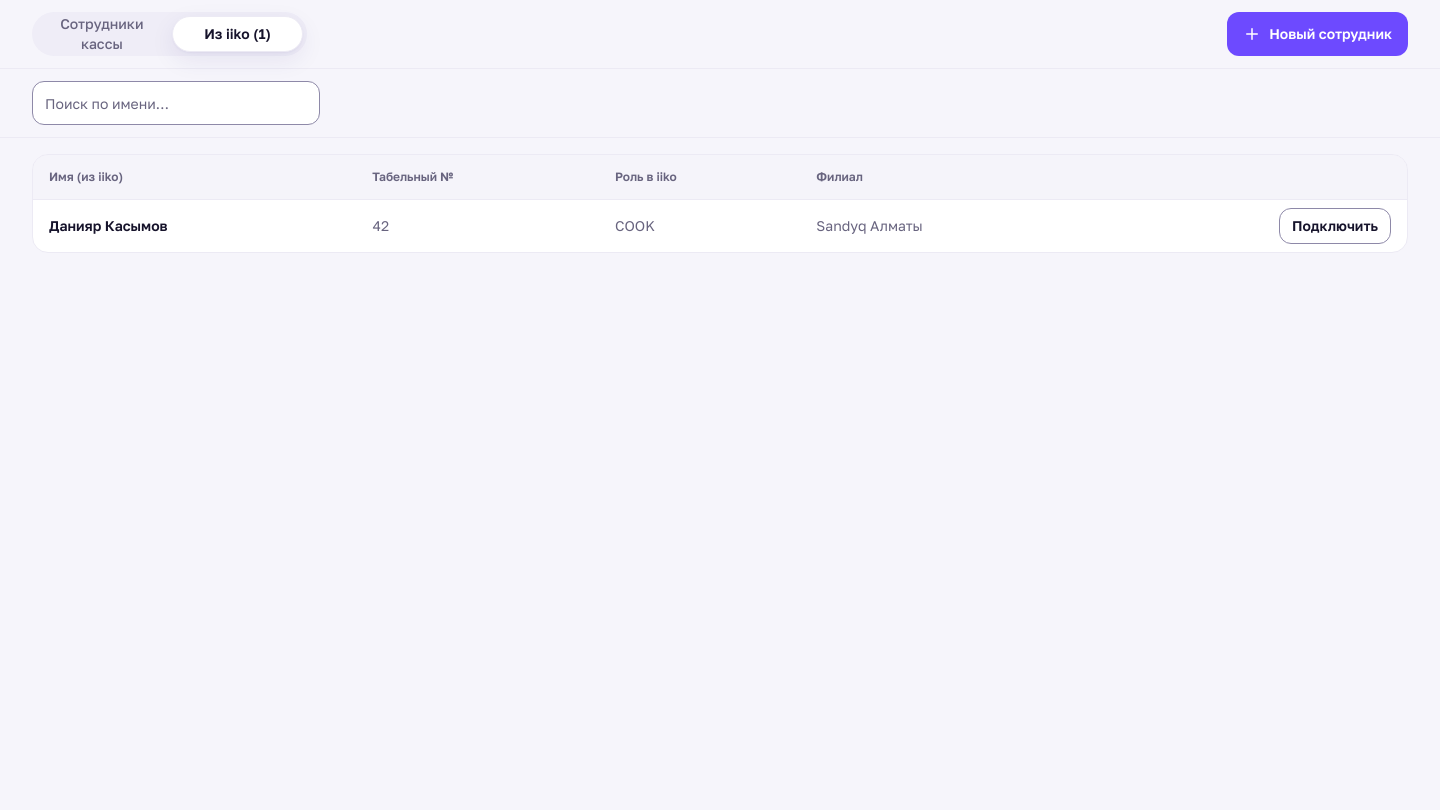
«Из iiko» (W1-HR-01 keeps the provisioning flow) › provisions POS access with the suggested code and PIN; the fields are not autofilled
Click the button "Подключить": x=1335, y=226 [1279,208,1391,244]
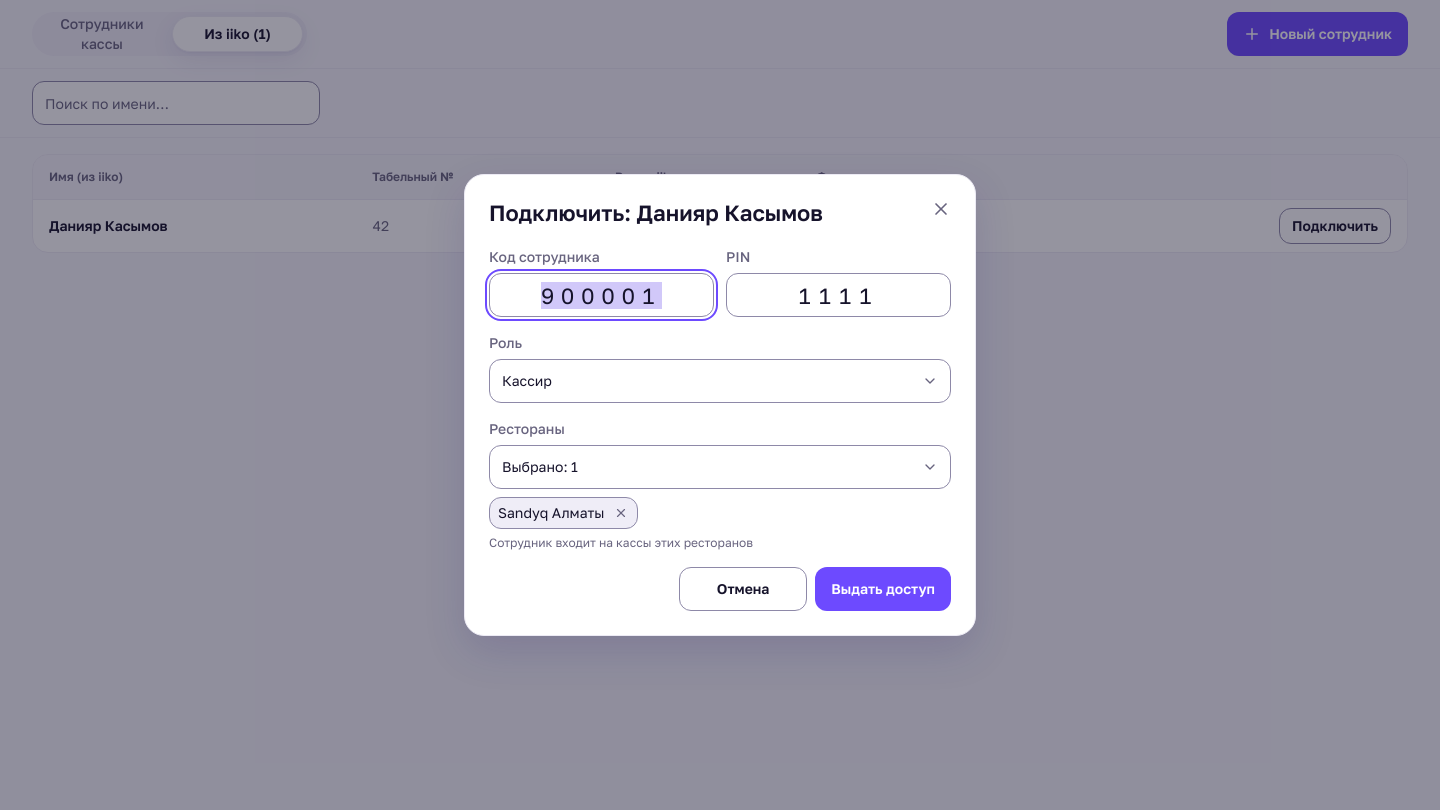
Click the button "Выдать доступ": x=883, y=589 [815,567,951,611]
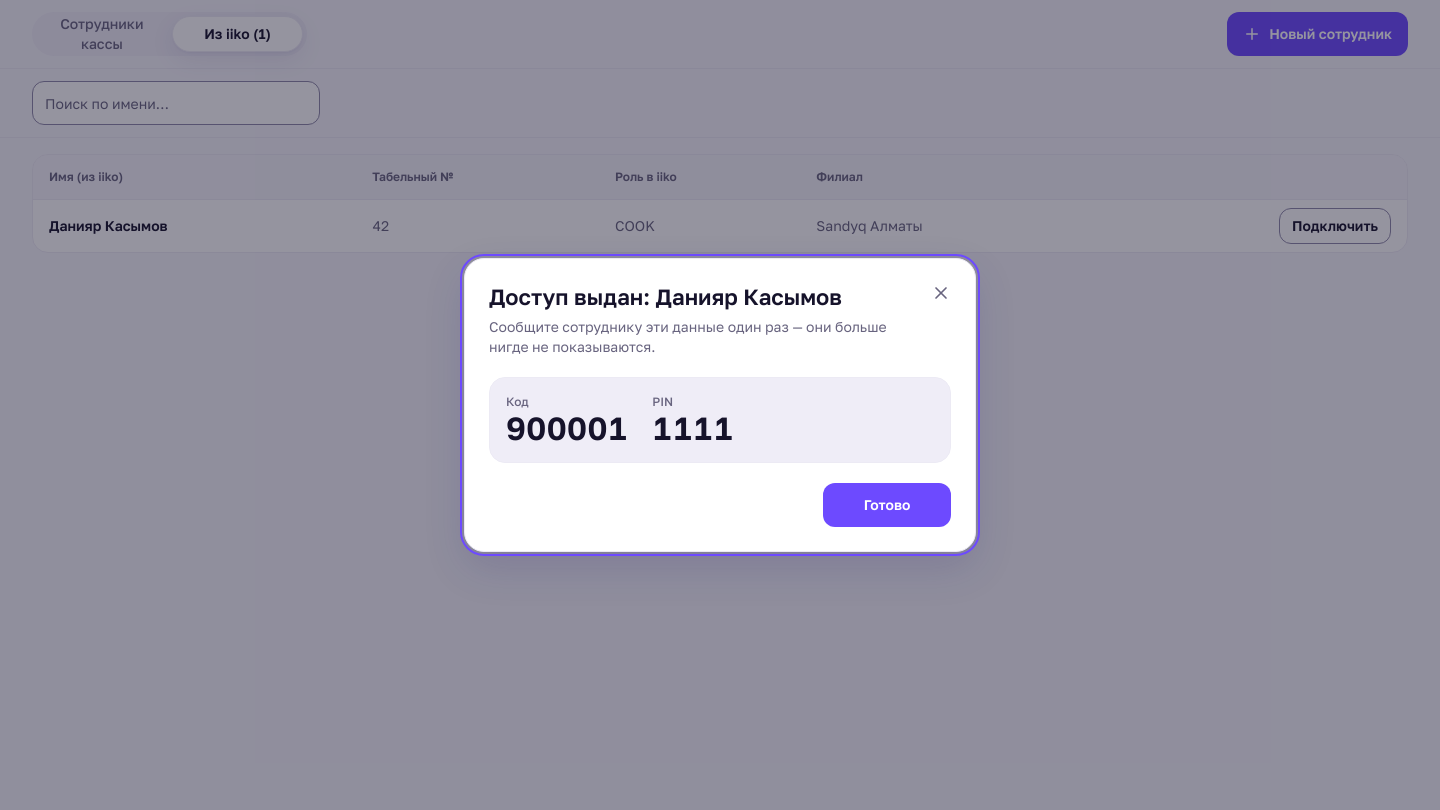
Expected: the heading "Доступ выдан: Данияр Касымов" is shown, [489,283,842,310]
